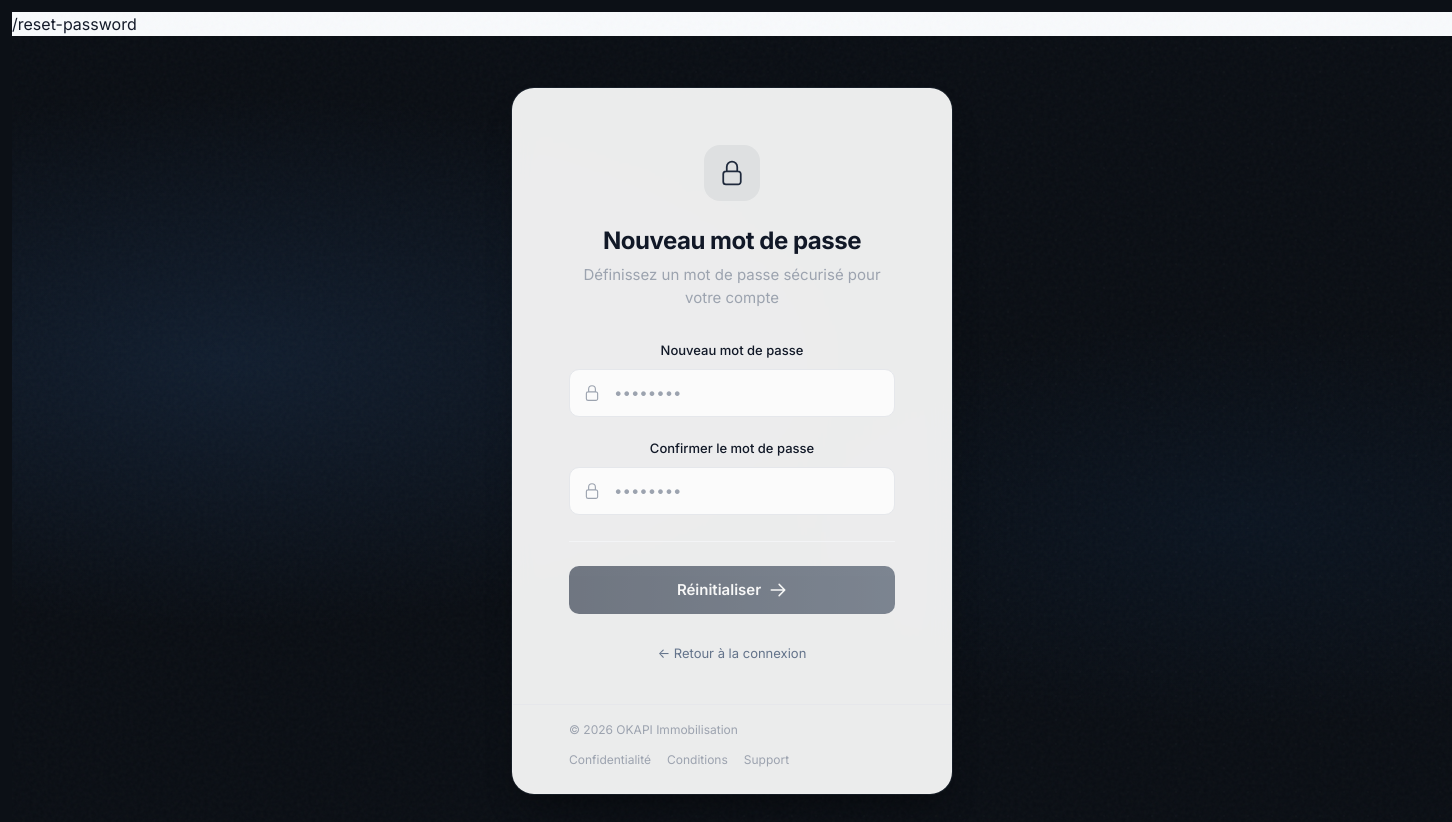
a token consumed after verification returns to the invalid-link screen
Step 1. Type "Password9" into the password field labelled "Nouveau mot de passe" → (732, 393), box x1=569 y1=369 x2=895 y2=417
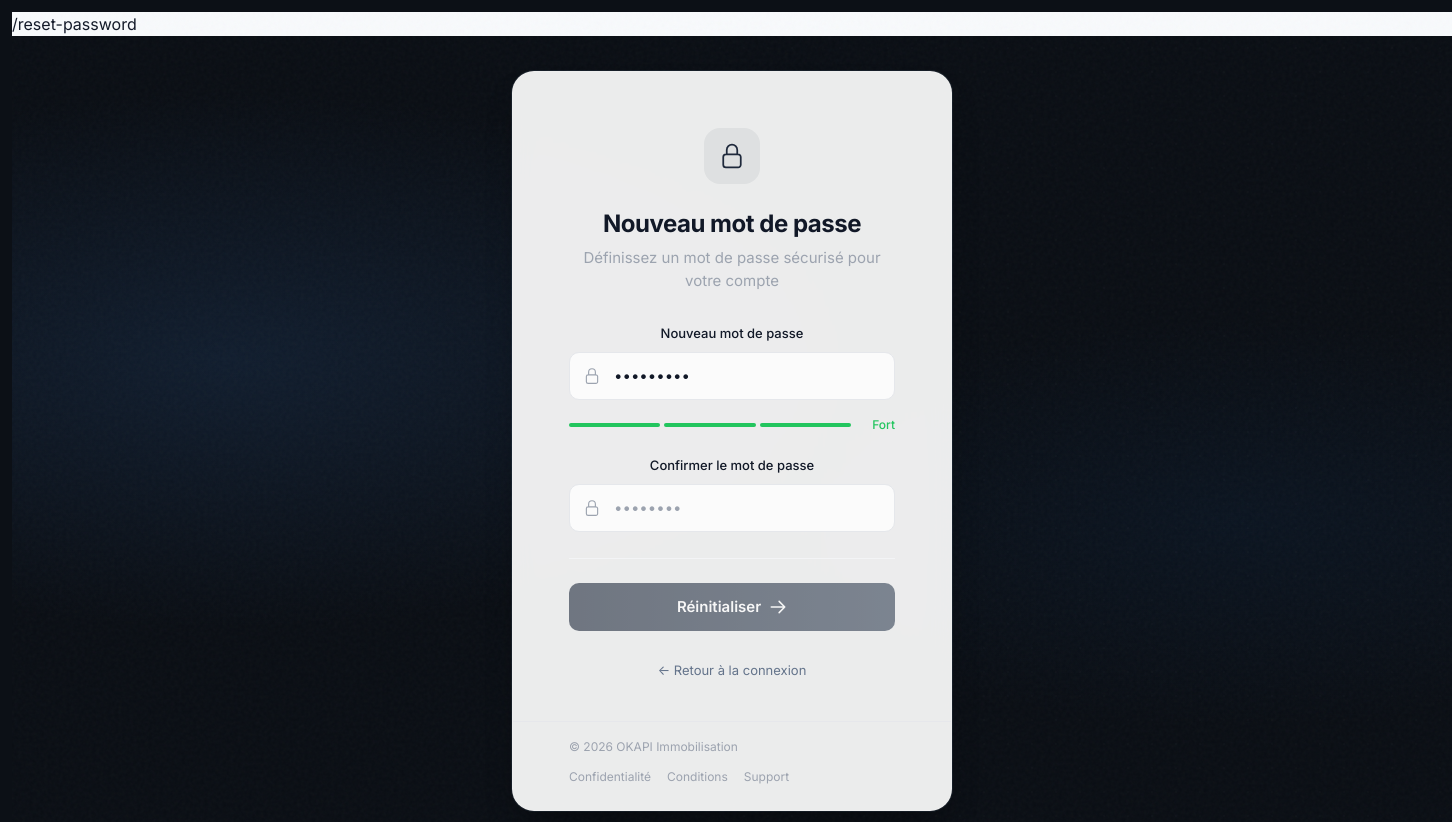
Step 2. Type "Password9" into the password field labelled "Confirmer le mot de passe" → (732, 508), box x1=569 y1=484 x2=895 y2=532
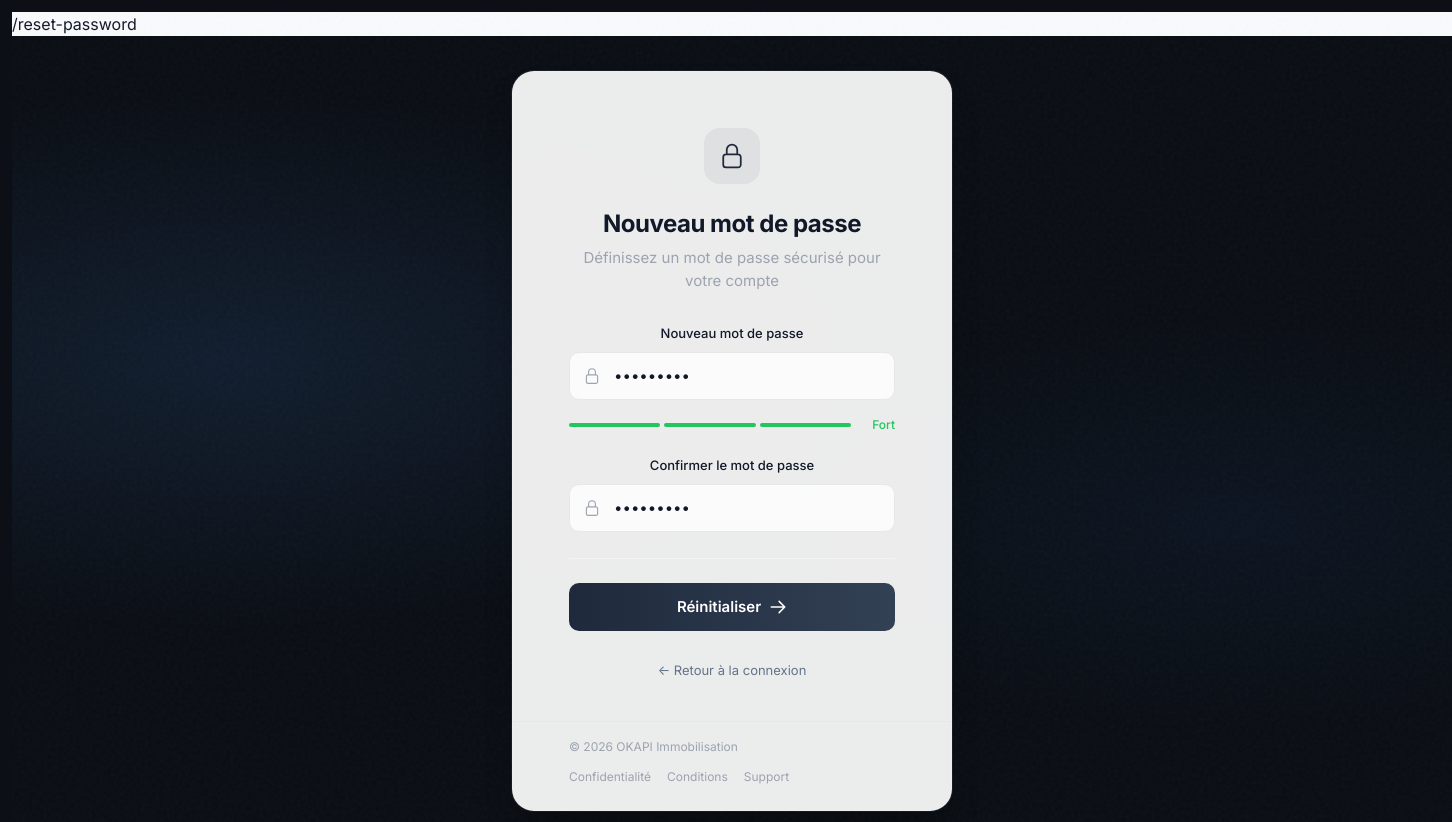
Step 3. Click the button "Réinitialiser" → click(732, 607), box x1=569 y1=583 x2=895 y2=631
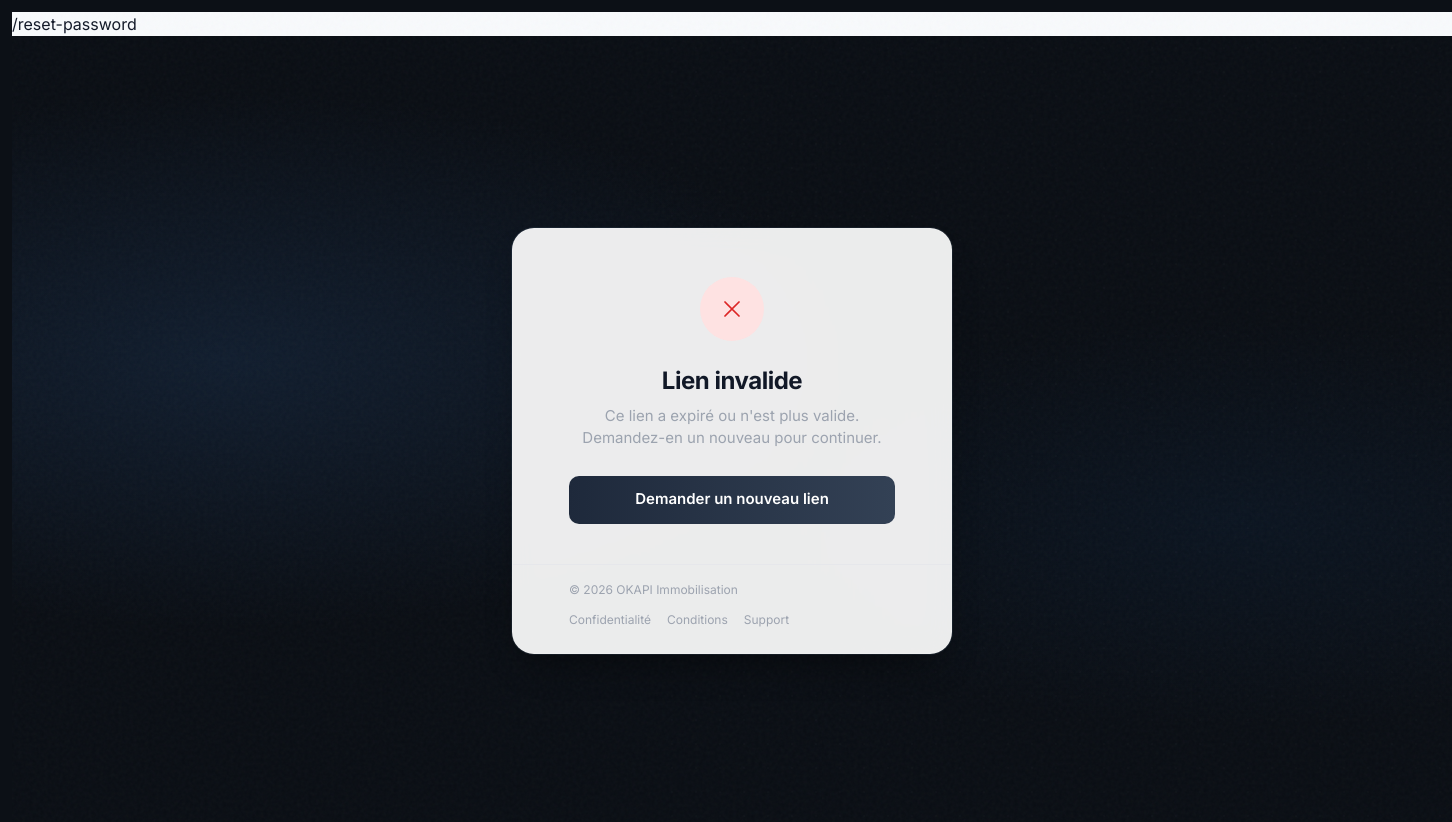
Check: the heading "Lien invalide" is shown, box x1=662 y1=366 x2=802 y2=395
